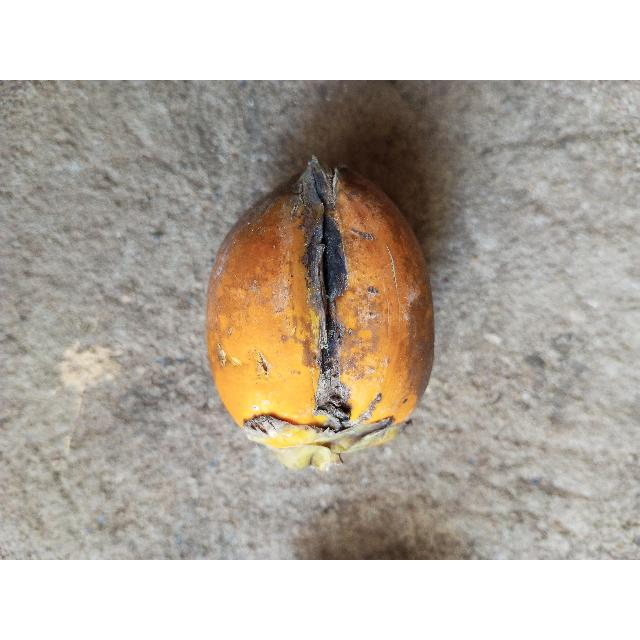damaged: (207, 157, 434, 470)
